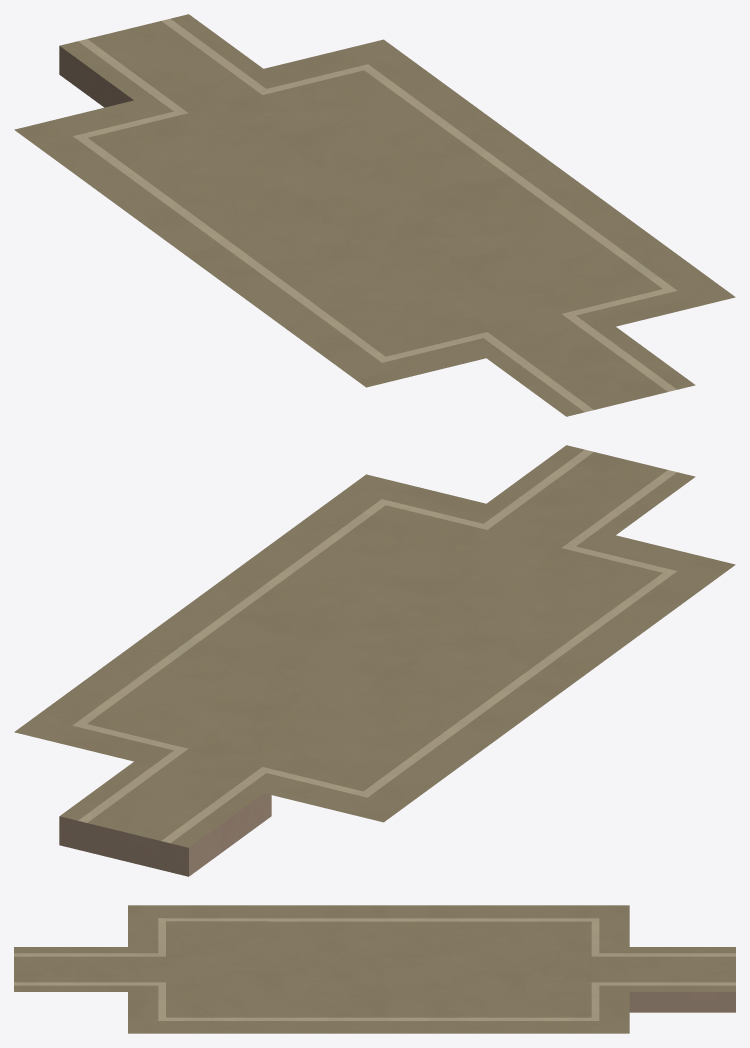
File: EntranceHallFloor.fbx
3 views of the same model, one above another, from view 1: azimuth 30°, elevation 25°; view 2: azimuth 150°, elevation 25°; view 3: azimuth 270°, elevation 25° (orthographic). The views are drawn at different scales.
Parts seen in each view (by area): view 1: Entrance Hall Floor; view 2: Entrance Hall Floor; view 3: Entrance Hall Floor.
Part boxes in pixels (x1,y1,x2,y2): Entrance Hall Floor: (14,14,735,416); Entrance Hall Floor: (14,445,735,876); Entrance Hall Floor: (14,905,735,1033).
Size of the model in its own units: 2000 by 150 by 4750.
